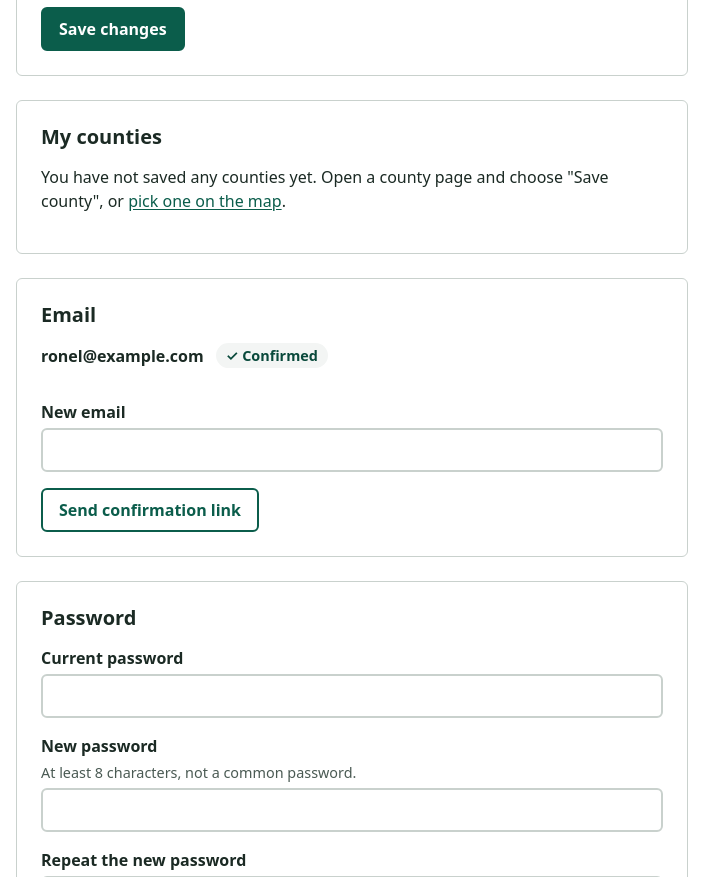
Test: Profile page: email › shows the server message when the address is already used
The image size is (705, 877).
(page scrolled)
Type "taken@example.com" into the field labelled "New email".
click(352, 450); type("taken@example.com")  # box [41,428,663,472]
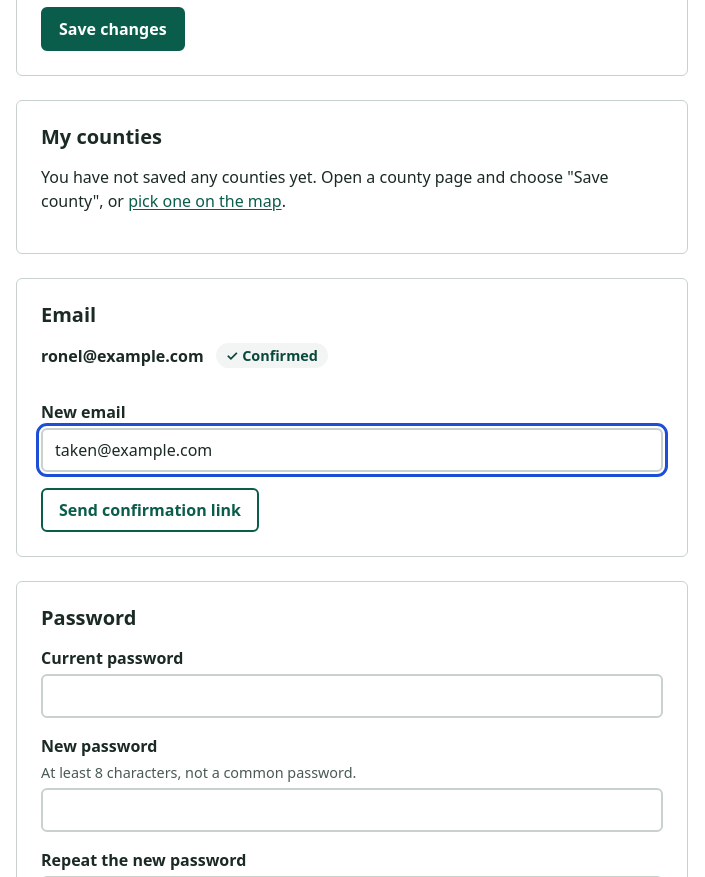
Click the button "Send confirmation link".
click(150, 510)  # box [41,488,259,532]
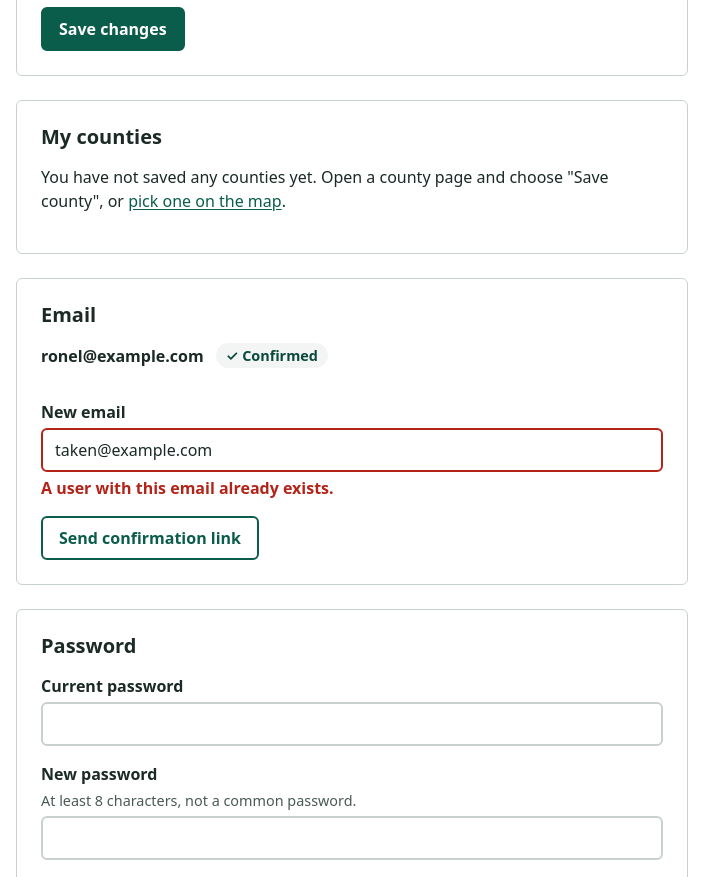
Now the text "A user with this email already exists." is shown, box [41,477,334,499]
